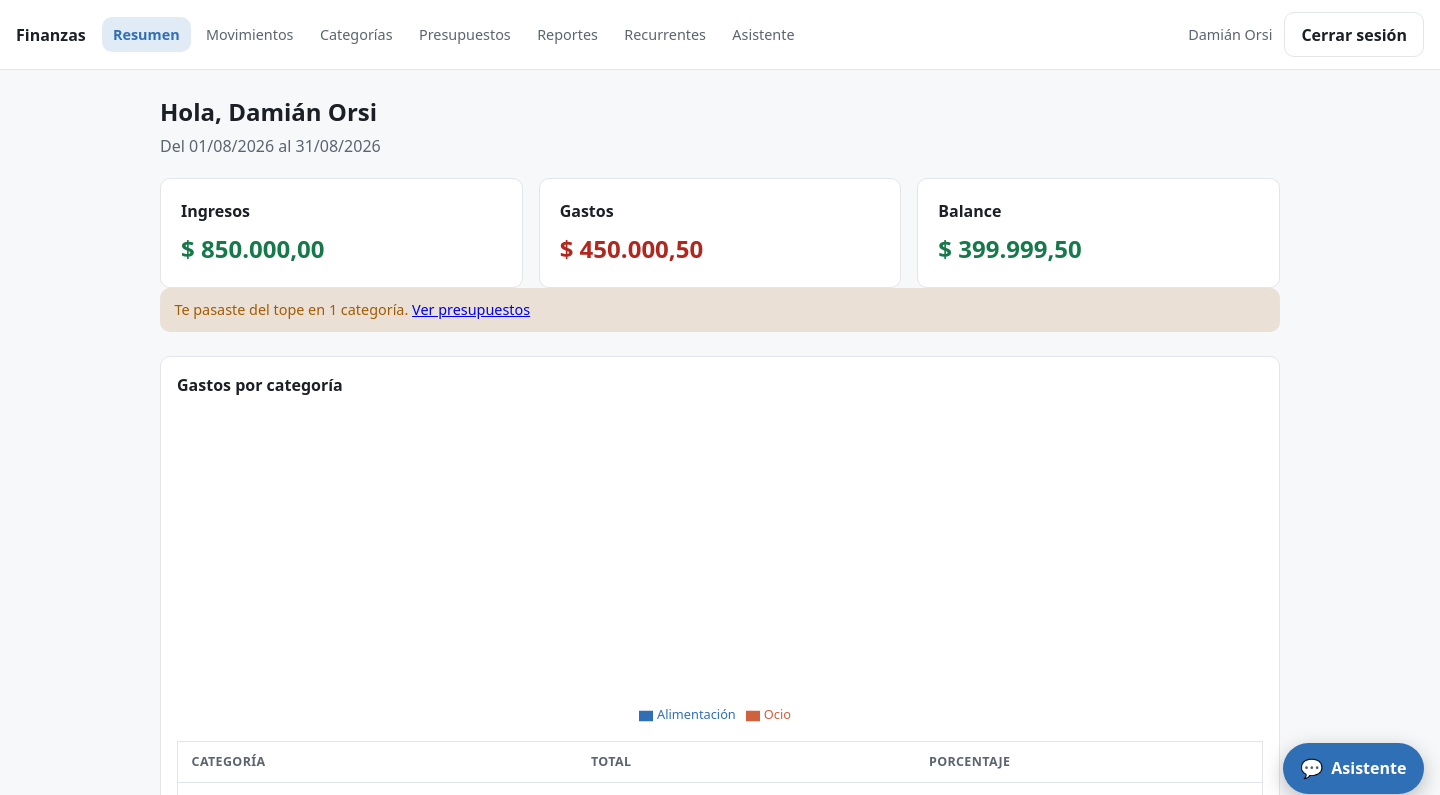
ruteo y guards › cerrar sesión vuelve al login
Check: the heading "Hola, Damián Orsi" is shown, box [160,95,377,128]
Click the button "Cerrar sesión" at (1354, 35), box [1284,12,1424,57]
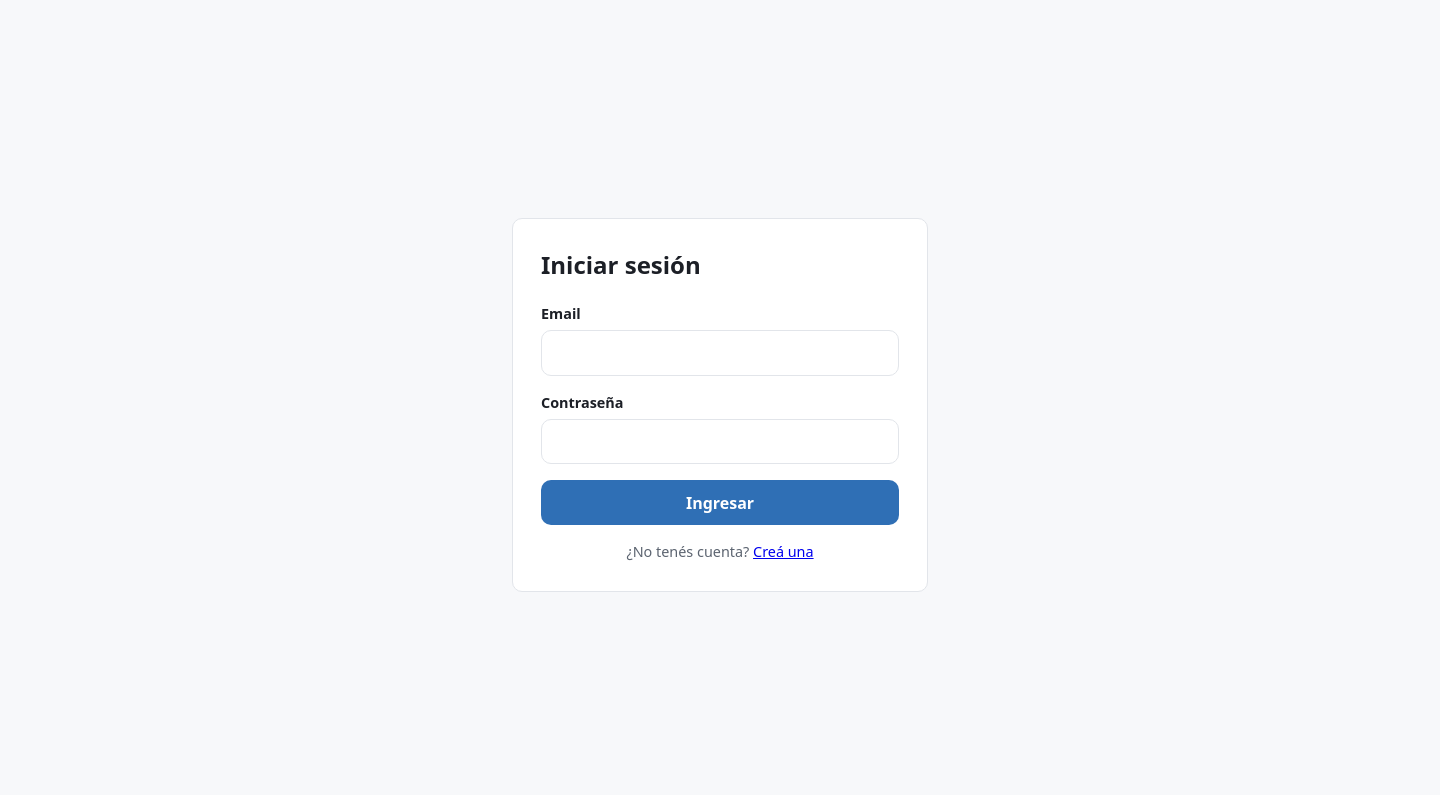
Check: the heading "Iniciar sesión" is shown, box [541,248,701,281]
